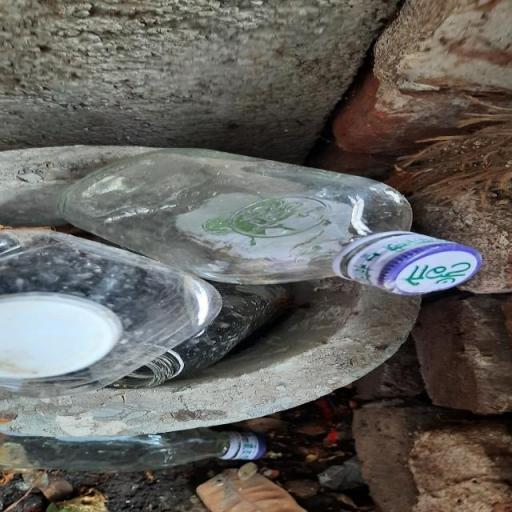glass: (65, 137, 482, 310), (2, 223, 372, 394), (0, 424, 270, 471)
